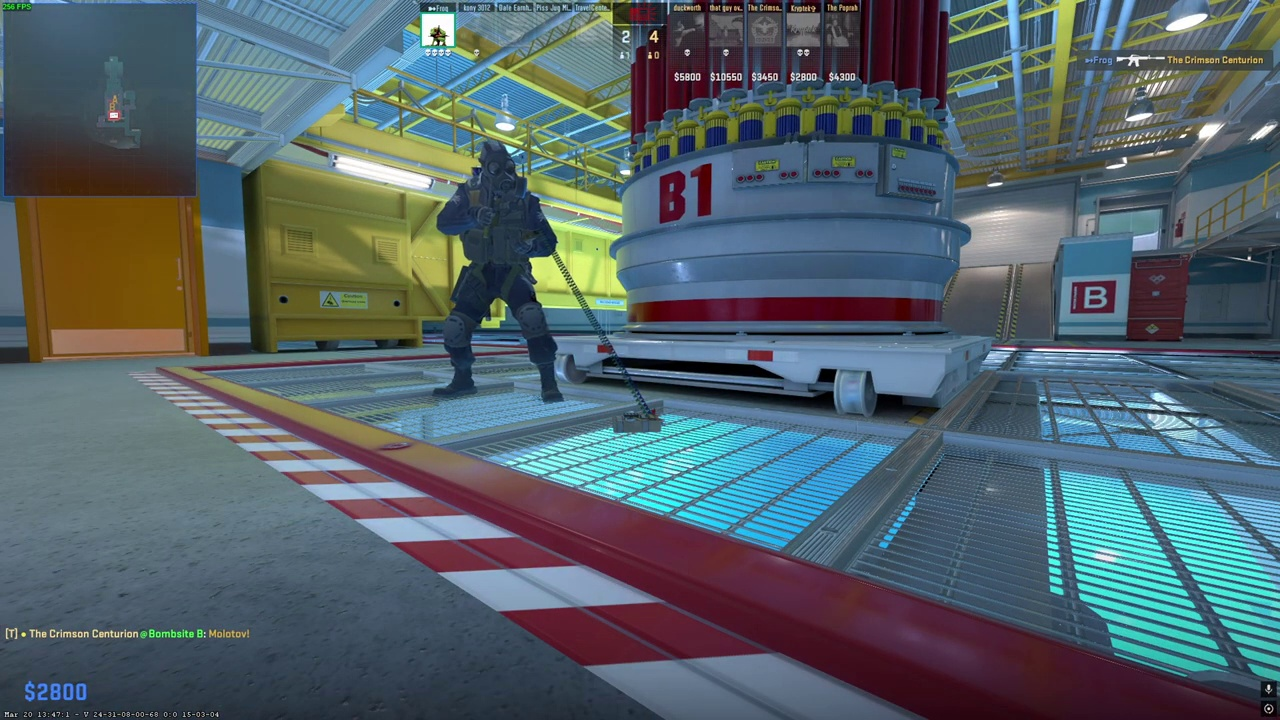CT: (433, 140, 557, 403)
